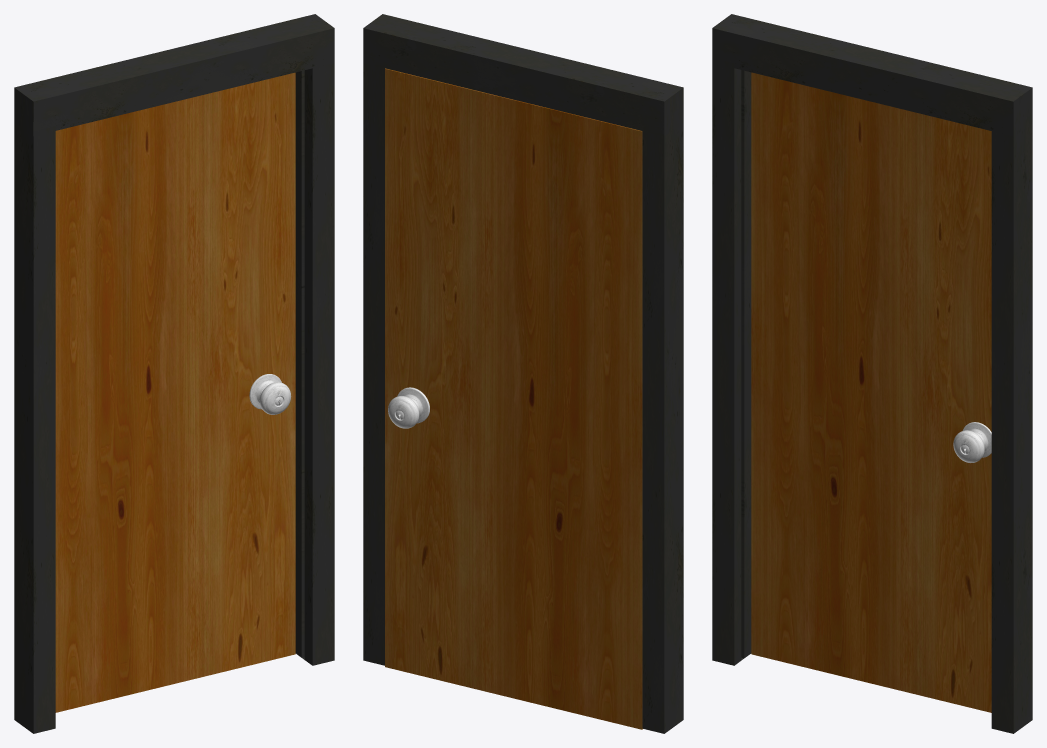
File: door shape 1.fbx
The picture shows the model from 3 angles, left to right: view 1: azimuth 30°, elevation 25°; view 2: azimuth 150°, elevation 25°; view 3: azimuth 330°, elevation 25°; orthographic projection.
Visible parts, largest first — view 1: Plane, Cube.001, Plane.002; view 2: Plane, Cube.001, Plane.001; view 3: Plane, Cube.001, Plane.002.
Boxes of the visible parts, left/top/right/bottom form: Plane: left=55, top=72, right=295, bottom=712; Cube.001: left=14, top=14, right=334, bottom=733; Plane.002: left=249, top=374, right=291, bottom=414; Plane: left=385, top=68, right=642, bottom=729; Cube.001: left=363, top=14, right=683, bottom=733; Plane.001: left=388, top=387, right=429, bottom=428; Plane: left=751, top=72, right=991, bottom=712; Cube.001: left=712, top=14, right=1032, bottom=733; Plane.002: left=953, top=422, right=991, bottom=462.
Bounding box in the file's own units: 352 × 706 × 70.23.
3 materials, 3 textured.
